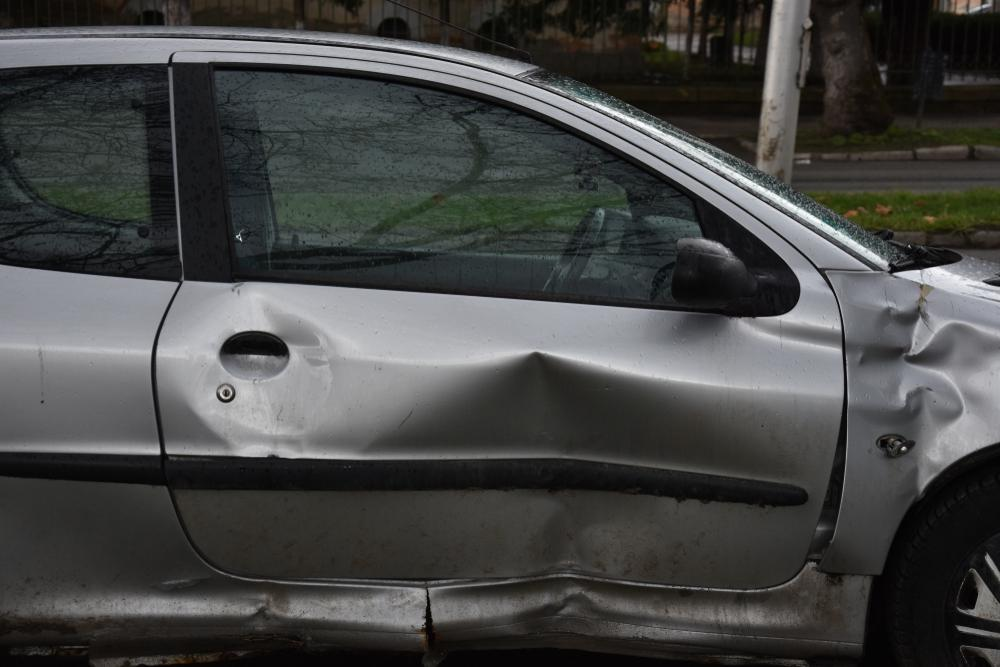crack: (422, 586, 437, 667)
dent: (369, 347, 728, 584), (851, 276, 999, 490), (181, 295, 347, 452), (723, 315, 846, 369), (513, 588, 637, 641)
